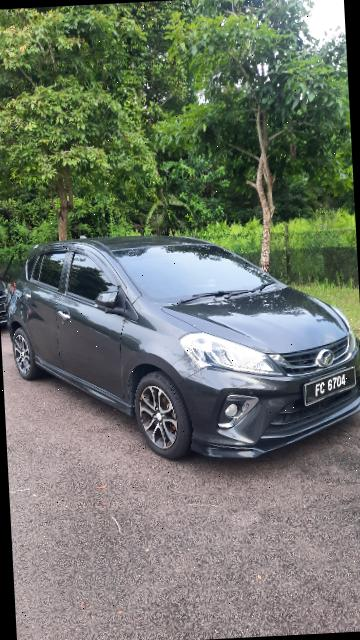License_Plate: (298, 361, 360, 412)
car: (2, 219, 360, 474)
